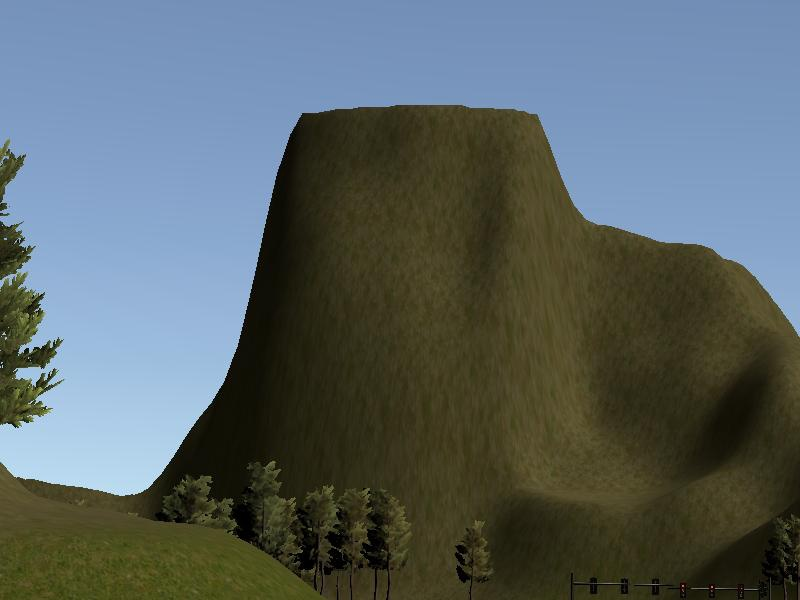Off: (736, 585, 742, 600)
Red: (708, 585, 715, 599), (680, 583, 684, 598)
